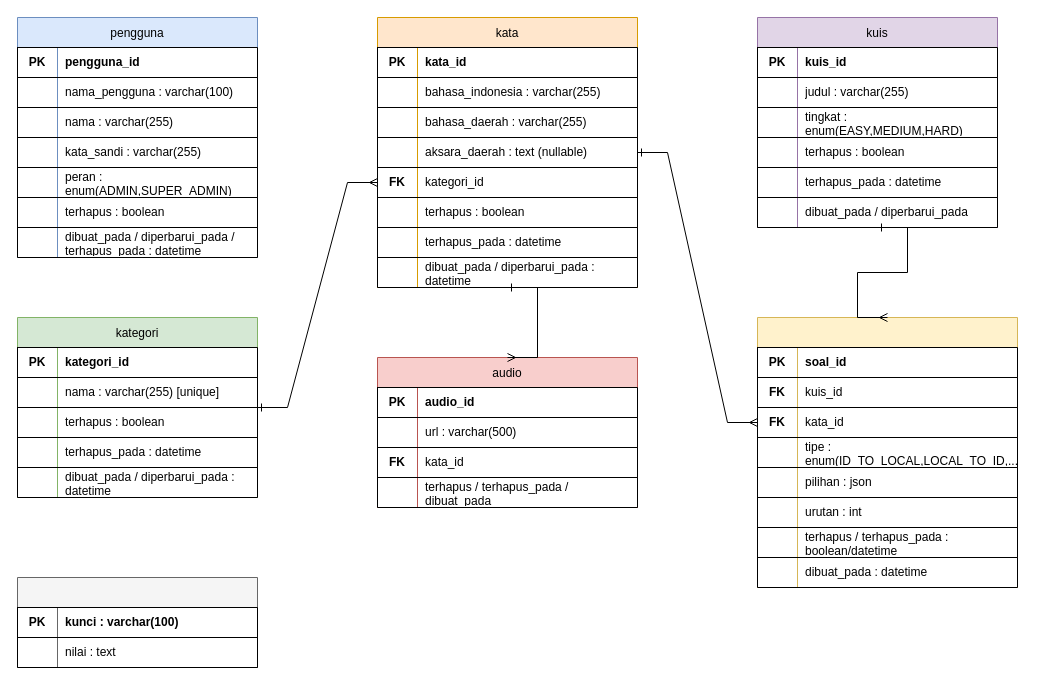
Some shapes in this 1038 by 685 pixel diagram are drawn without their labels. Here are the shapes that lost their labels. From the top down, the box of each, then its label:
(756, 316, 1018, 588): soal_kuis
(16, 576, 258, 668): meta_sinkronisasi
